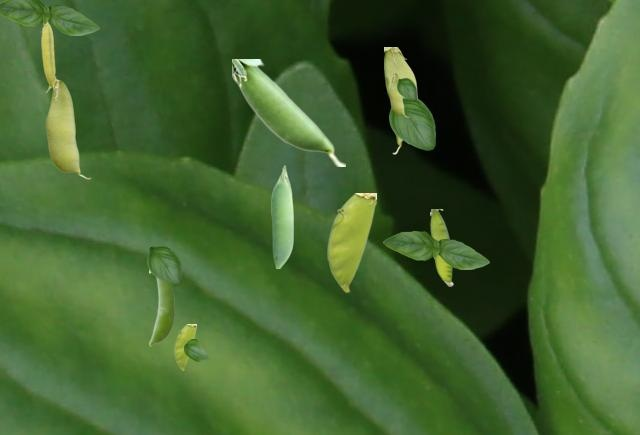pea: (232, 59, 344, 165), (327, 193, 375, 291), (45, 76, 90, 178), (384, 47, 418, 153), (271, 165, 292, 267), (149, 271, 173, 345), (430, 209, 452, 285), (174, 324, 195, 369), (41, 22, 54, 89), (389, 71, 408, 116)
